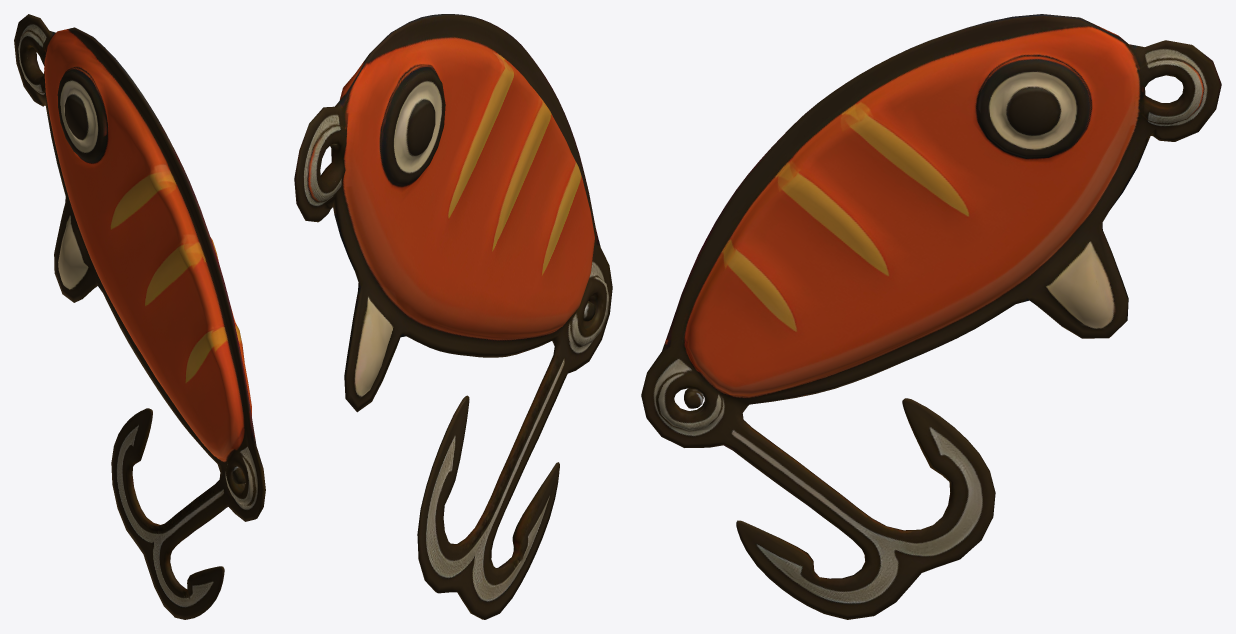
The model's file is fishBite.fbx.
3 renders of one model, left to right at view 1: azimuth 30°, elevation 25°; view 2: azimuth 150°, elevation 25°; view 3: azimuth 270°, elevation 25°, orthographic. The views are drawn at different scales.
Parts seen in each view (by area): view 1: tripo_node_0195bee9; view 2: tripo_node_0195bee9; view 3: tripo_node_0195bee9.
Boxes of the visible parts, bbox=[...] form: tripo_node_0195bee9: bbox=[14, 14, 265, 619]; tripo_node_0195bee9: bbox=[294, 14, 612, 619]; tripo_node_0195bee9: bbox=[641, 14, 1221, 619].
Bounding box in the file's own units: 9.47 × 99.21 × 86.35.
1 material, 1 textured.
